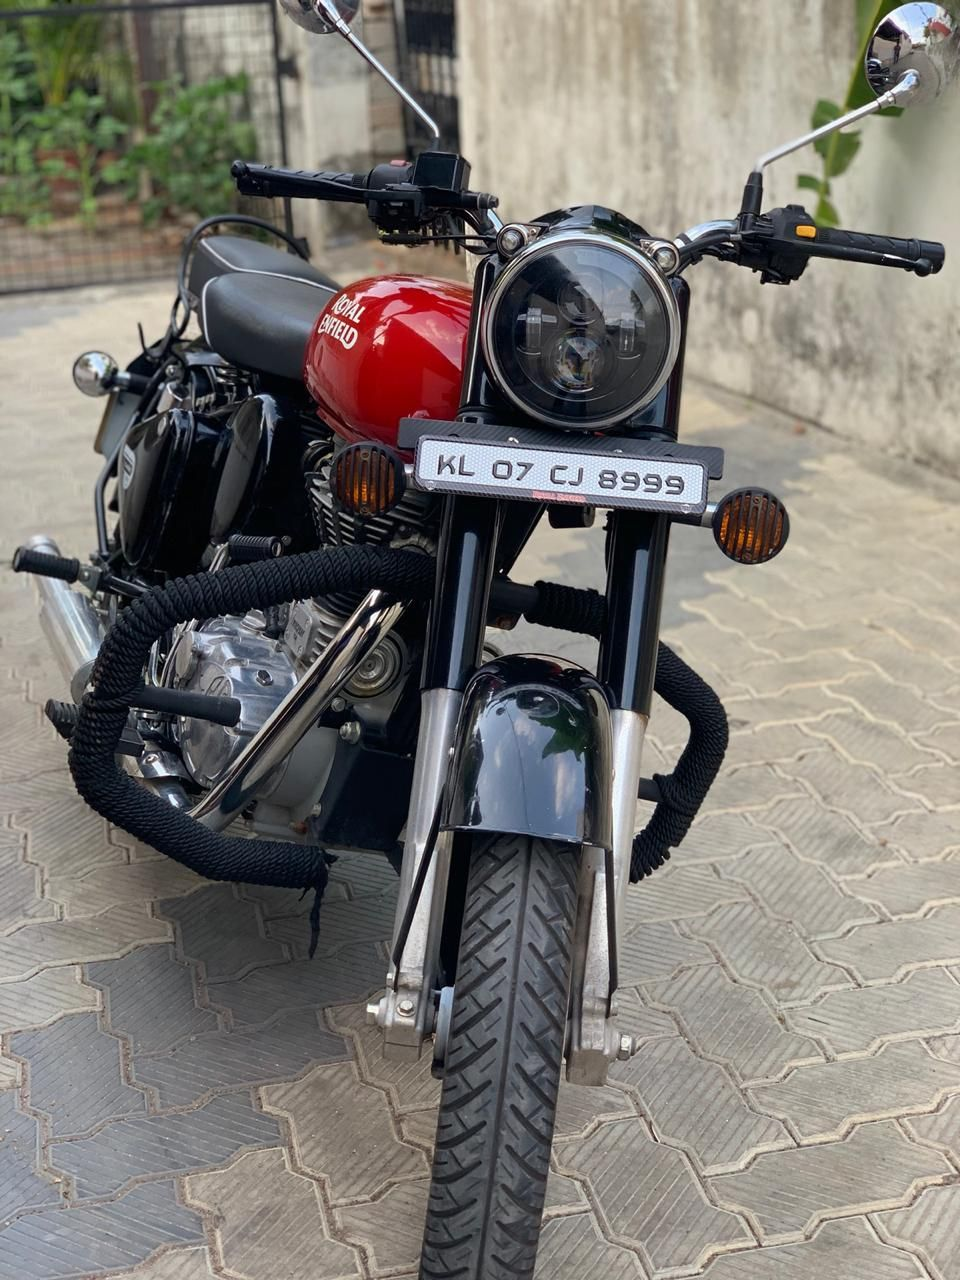plate: (390, 417, 745, 543)
